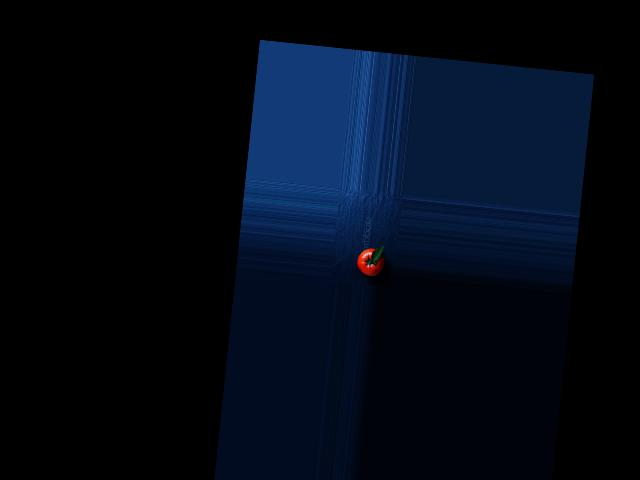tomato: (356, 246, 385, 277)
